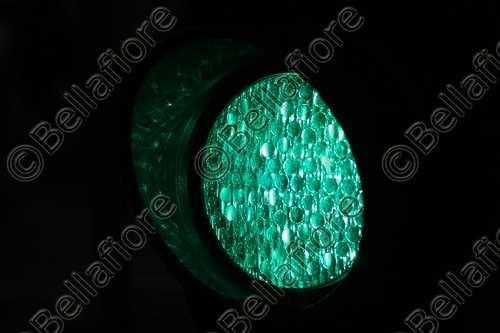red: (193, 65, 370, 300)
